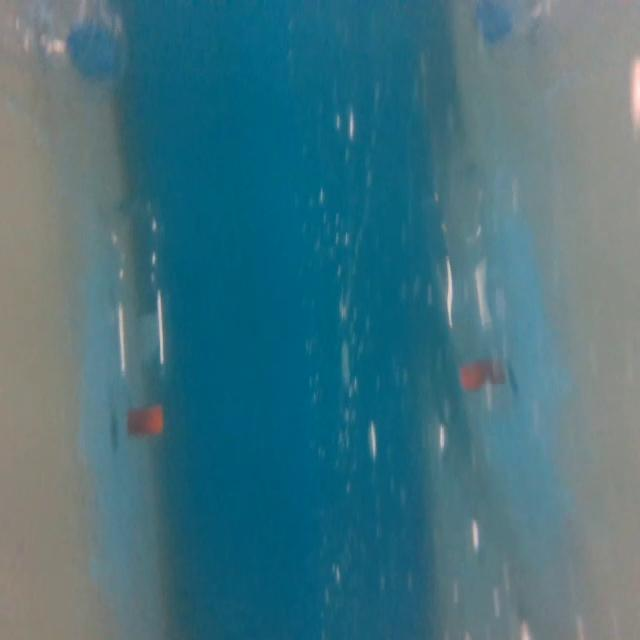plastic bottle: (93, 182, 195, 444)
